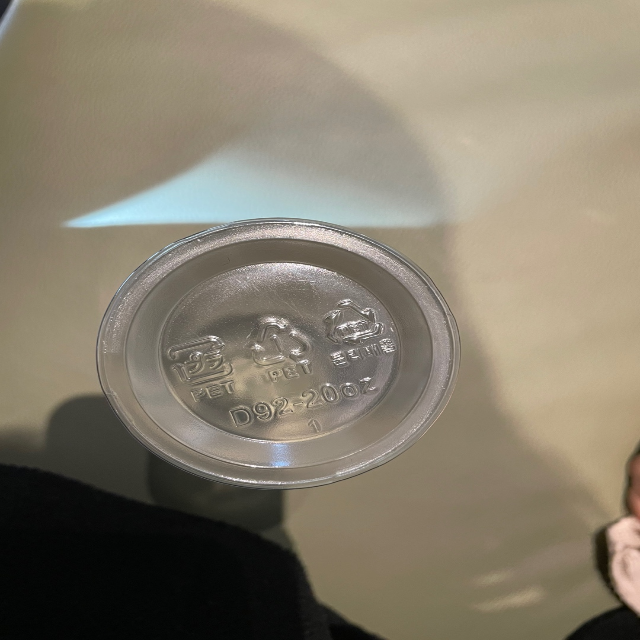pet: (314, 292, 403, 365), (164, 328, 242, 404), (244, 312, 317, 385)
